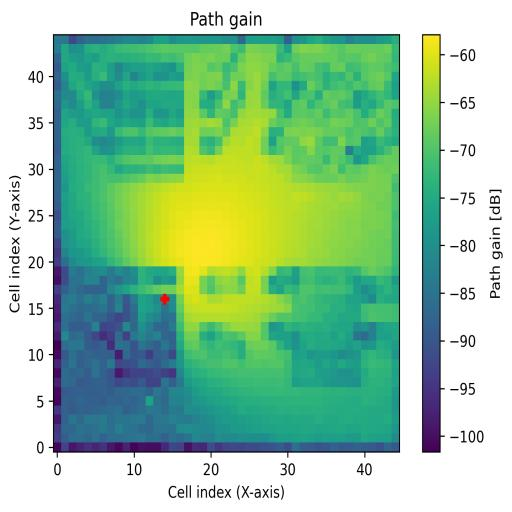Concrete: (292, 55, 368, 181)
Glass: (114, 62, 184, 175)
Metal: (291, 265, 362, 387)
Wood: (106, 267, 176, 388)
